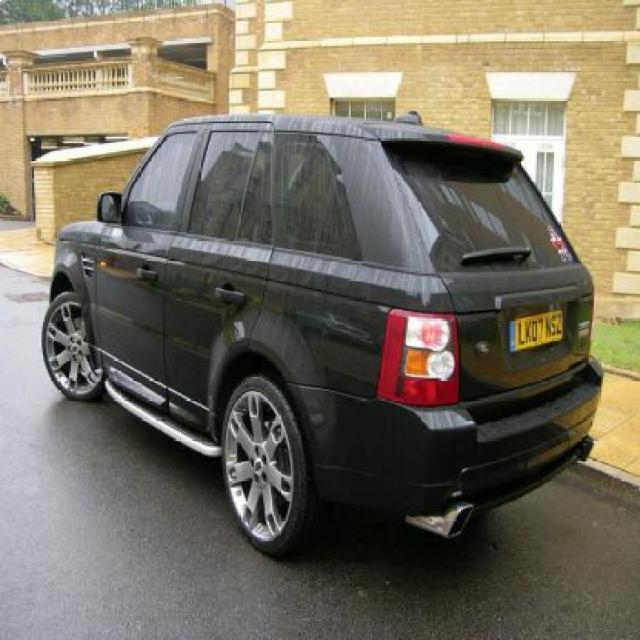License-Plates: (501, 302, 571, 359)
